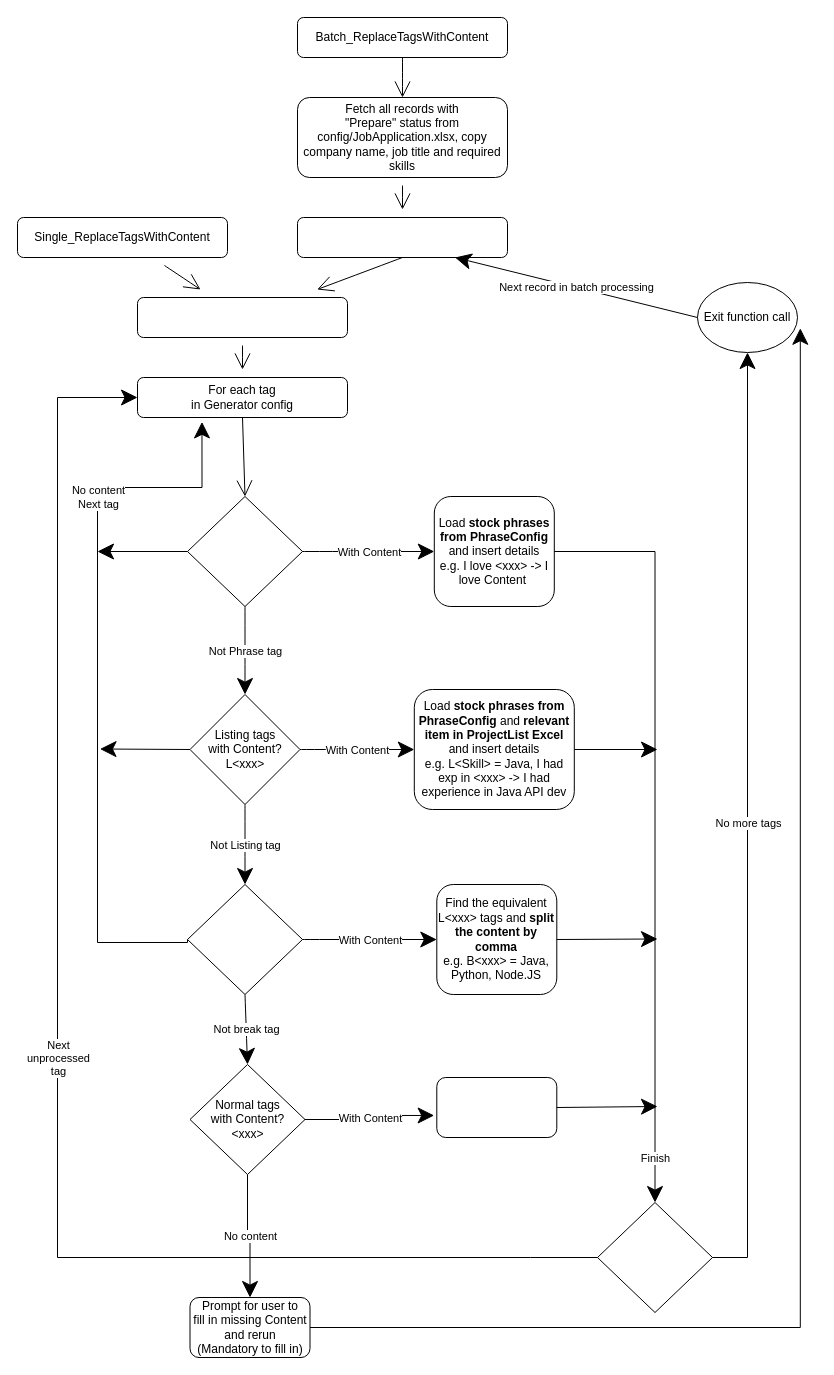
Some shapes in this 834 by 1375 pixel diagram are drawn without their labels. The box of each missing label's shape, as (x1, y1, x2, y2) in pixels:
Break tags with Content? B<xxx>: (186, 884, 302, 994)
For each record: (296, 216, 508, 258)
Function ReplaceTagsWithContent: (136, 296, 348, 338)
No more tags?: (596, 1202, 712, 1312)
Phrase tags with Content? P<xxx>: (186, 496, 302, 606)
Replace in Word template file <xxx> -> Content: (436, 1076, 557, 1138)
